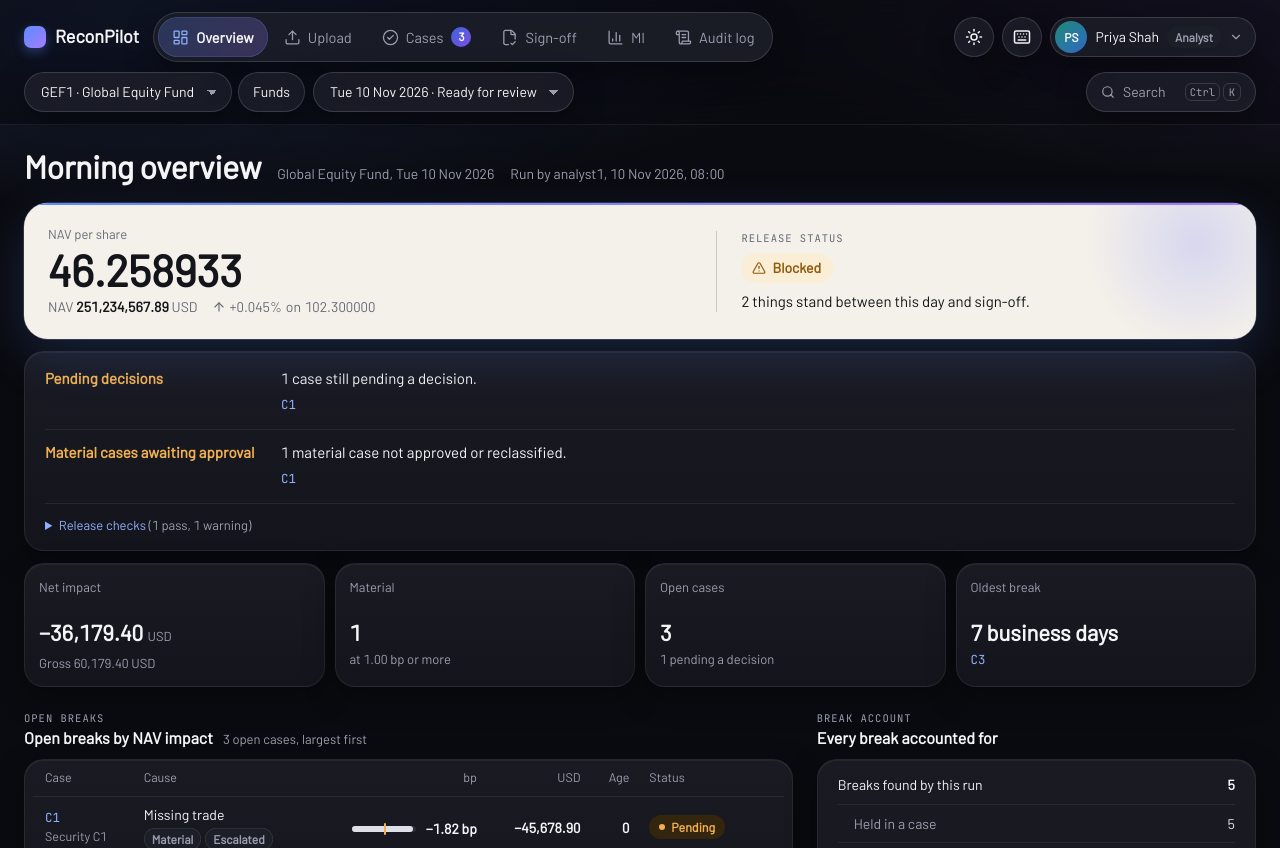
Test: Morning overview › keeps the release checks behind an expander
The width and height of the screenshot is (1280, 848).
Expected: the text "(1 pass, 1 warning)" is shown, [149,517,251,533]
Click the heading "Release checks (1 pass, 1 warning)".
click(148, 525)  # box [45,516,251,534]
(page scrolled)
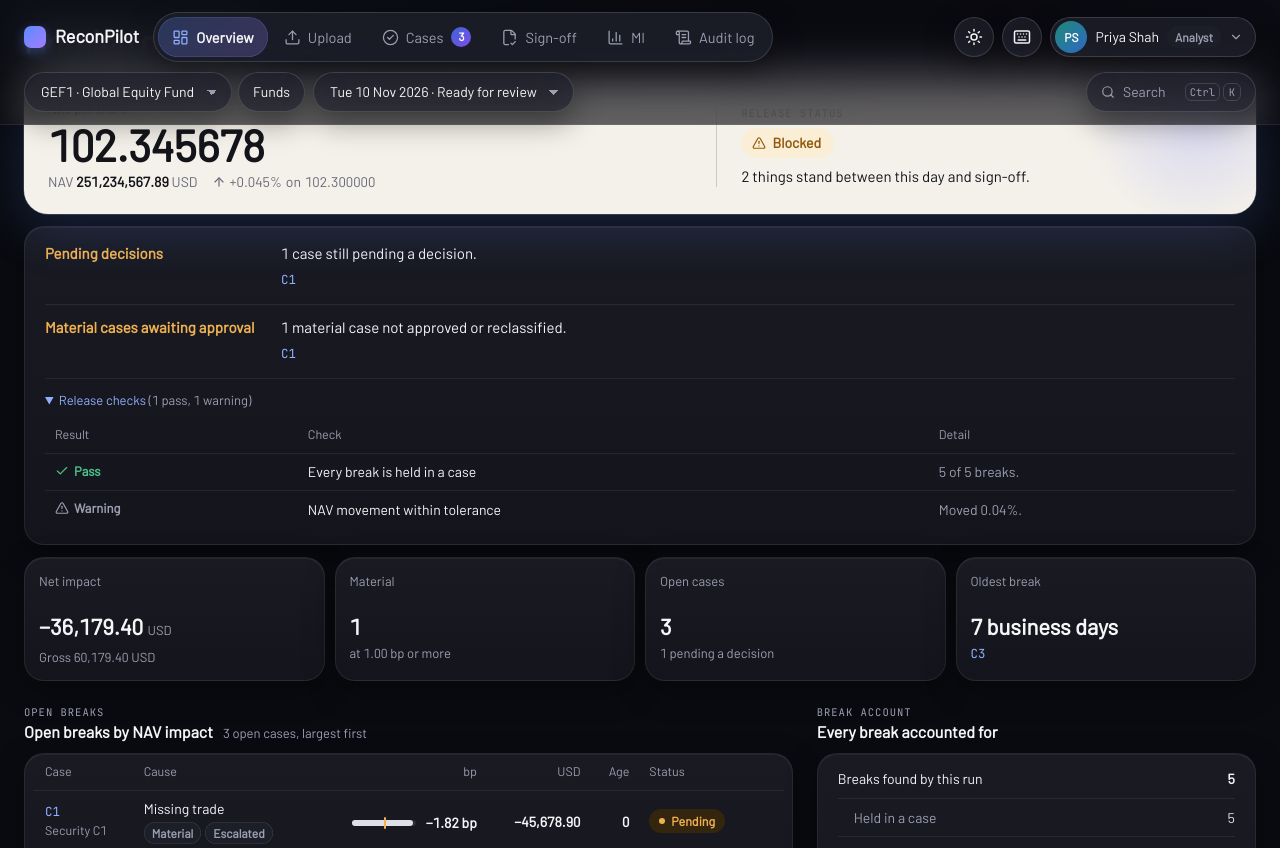
Expected: the text "NAV movement within tolerance" is shown, [298,491,929,528]
